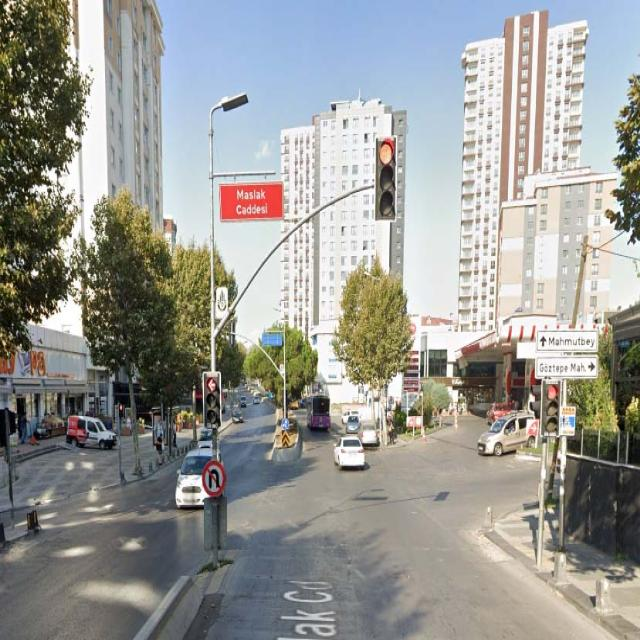ilerisol: (281, 416, 289, 429)
kirmizi: (375, 136, 397, 222), (540, 380, 559, 438)
